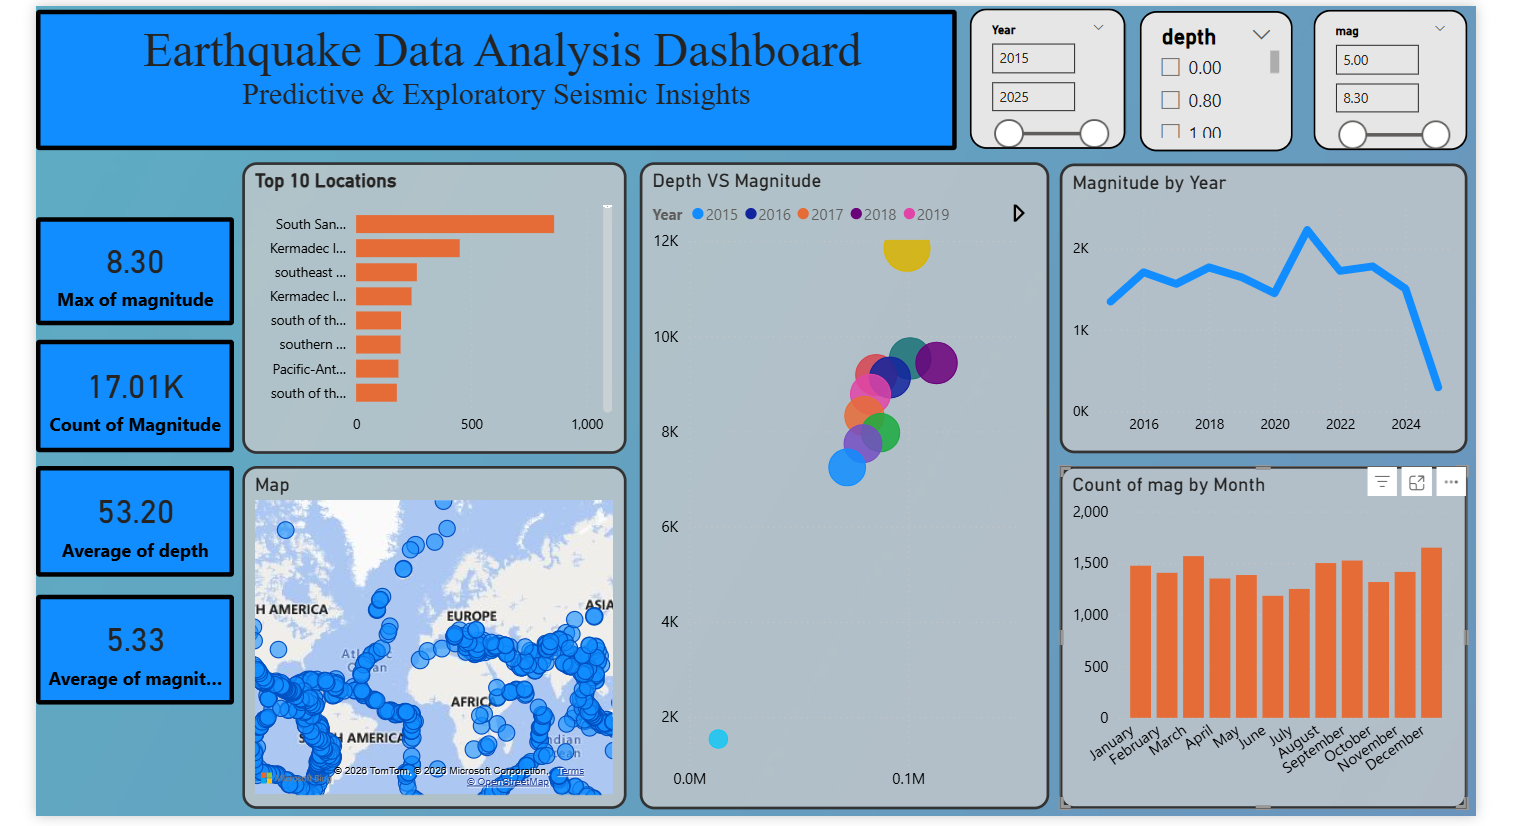

What the dashboard file says about the page in this screenshot:
{"tool":"powerbi","page":{"name":"Page 1","canvas":[1280,720],"ordinal":0},"visuals":[{"type":"card","fields":{"Values":["CountNonNull(EarthquakeBigDataAnalysis (1).mag)"]},"box":[0,296.4,175.6,100.2],"z":0},{"type":"card","fields":{"Values":["Avg(EarthquakeBigDataAnalysis (1).mag)"]},"box":[0,522.8,175.6,97.4],"z":1000},{"type":"card","fields":{"Values":["Max(EarthquakeBigDataAnalysis (1).mag)"]},"box":[0,188,175.6,96.1],"z":2000},{"type":"card","fields":{"Values":["Avg(EarthquakeBigDataAnalysis (1).depth)"]},"box":[0,408.9,175.6,98.8],"z":3000},{"type":"map","title":"Map","fields":{"Y":["EarthquakeBigDataAnalysis (1).latitude"],"X":["EarthquakeBigDataAnalysis (1).longitude"],"Size":["Sum(EarthquakeBigDataAnalysis (1).mag)"]},"box":[183.9,408.9,341.7,304.6],"z":4000},{"type":"scatterChart","title":"Depth VS Magnitude","fields":{"X":["Sum(EarthquakeBigDataAnalysis (1).depth)"],"Y":["Sum(EarthquakeBigDataAnalysis (1).mag)"],"Size":["Sum(EarthquakeBigDataAnalysis (1).mag)"],"Series":["EarthquakeBigDataAnalysis (1).time.Variation.Date Hierarchy.Year"]},"box":[536.5,138.6,363.6,575],"z":5000},{"type":"barChart","title":"Top 10 Locations","fields":{"Y":["CountNonNull(EarthquakeBigDataAnalysis (1).mag)"],"Category":["EarthquakeBigDataAnalysis (1).place"]},"box":[183.9,138.6,341.7,259.3],"z":6000},{"type":"lineChart","title":"Magnitude by Year","fields":{"Category":["EarthquakeBigDataAnalysis (1).time.Variation.Date Hierarchy.Year"],"Y":["CountNonNull(EarthquakeBigDataAnalysis (1).mag)"]},"box":[909.8,140,362.3,258],"z":7000},{"type":"columnChart","fields":{"Y":["CountNonNull(EarthquakeBigDataAnalysis (1).mag)"],"Category":["EarthquakeBigDataAnalysis (1).time.Variation.Date Hierarchy.Month"]},"box":[909.8,408.9,362.3,304.6],"z":8000},{"type":"slicer","fields":{"Values":["EarthquakeBigDataAnalysis (1).depth"]},"box":[981.1,4.1,135.8,124.9],"z":9000},{"type":"slicer","fields":{"Values":["EarthquakeBigDataAnalysis (1).mag"]},"box":[1135,3.3,136.7,125],"z":10000},{"type":"slicer","fields":{"Values":["EarthquakeBigDataAnalysis (1).time.Variation.Date Hierarchy.Year"]},"box":[830.2,2.7,138.6,124.9],"z":11000},{"type":"textbox","box":[0,3.3,818.3,125],"z":12000}]}

Visuals, with their boxes in screenshot pixels (x1, y1, x2, y2):
card - CountNonNull(EarthquakeBigDataAnalysis (1).mag): [x1=32, y1=335, x2=230, y2=448]
card - Avg(EarthquakeBigDataAnalysis (1).mag): [x1=32, y1=591, x2=230, y2=701]
card - Max(EarthquakeBigDataAnalysis (1).mag): [x1=32, y1=213, x2=230, y2=321]
card - Avg(EarthquakeBigDataAnalysis (1).depth): [x1=32, y1=462, x2=230, y2=574]
"Map" map: [x1=240, y1=462, x2=626, y2=807]
"Depth VS Magnitude" scatterChart: [x1=638, y1=157, x2=1049, y2=807]
"Top 10 Locations" barChart: [x1=240, y1=157, x2=626, y2=450]
"Magnitude by Year" lineChart: [x1=1060, y1=158, x2=1470, y2=450]
columnChart - CountNonNull(EarthquakeBigDataAnalysis (1).mag) x EarthquakeBigDataAnalysis (1).time.Variation.Date Hierarchy.Month: [x1=1060, y1=462, x2=1470, y2=807]
slicer - EarthquakeBigDataAnalysis (1).depth: [x1=1141, y1=5, x2=1294, y2=146]
slicer - EarthquakeBigDataAnalysis (1).mag: [x1=1315, y1=4, x2=1469, y2=145]
slicer - EarthquakeBigDataAnalysis (1).time.Variation.Date Hierarchy.Year: [x1=970, y1=3, x2=1127, y2=144]
textbox: [x1=32, y1=4, x2=957, y2=145]
